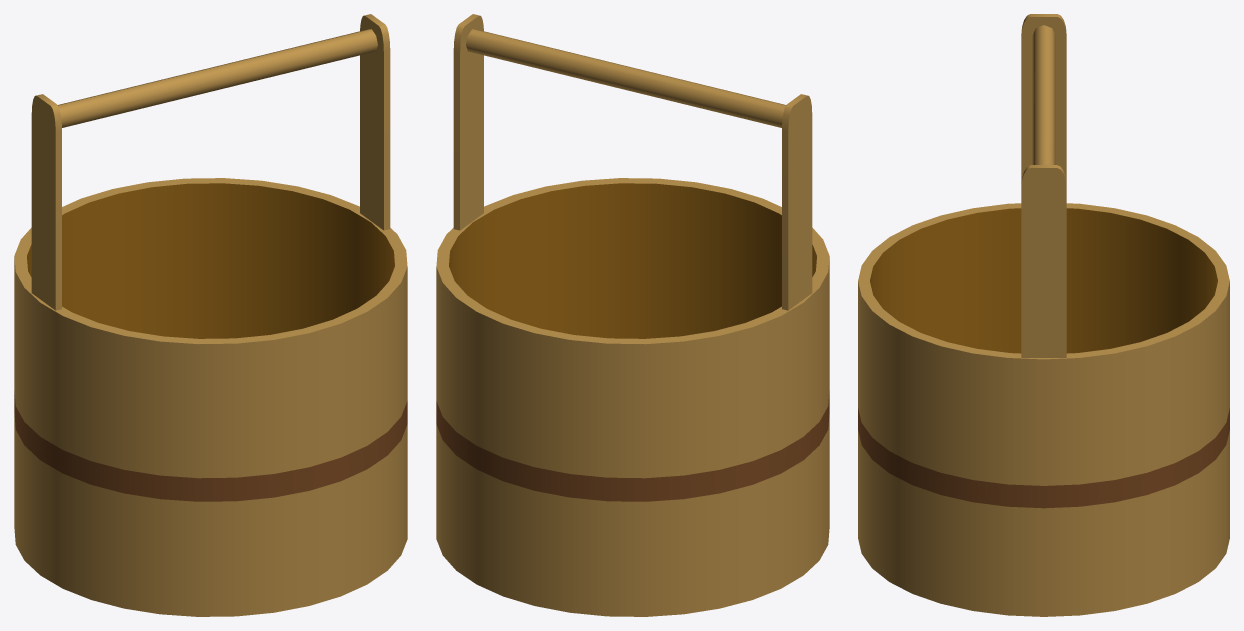
Rendered from 3_basin_3.fbx.
3 renders of one model, left to right at view 1: azimuth 30°, elevation 25°; view 2: azimuth 150°, elevation 25°; view 3: azimuth 270°, elevation 25°, orthographic. The views are drawn at different scales.
Visible parts, largest first — view 1: 3_basin_3; view 2: 3_basin_3; view 3: 3_basin_3.
Boxes of the visible parts, x1=… form: 3_basin_3: x1=14, y1=14, x2=407, y2=616; 3_basin_3: x1=436, y1=14, x2=829, y2=616; 3_basin_3: x1=858, y1=14, x2=1229, y2=616.
Bounding box in the file's own units: 54.83 × 73.45 × 54.83.
